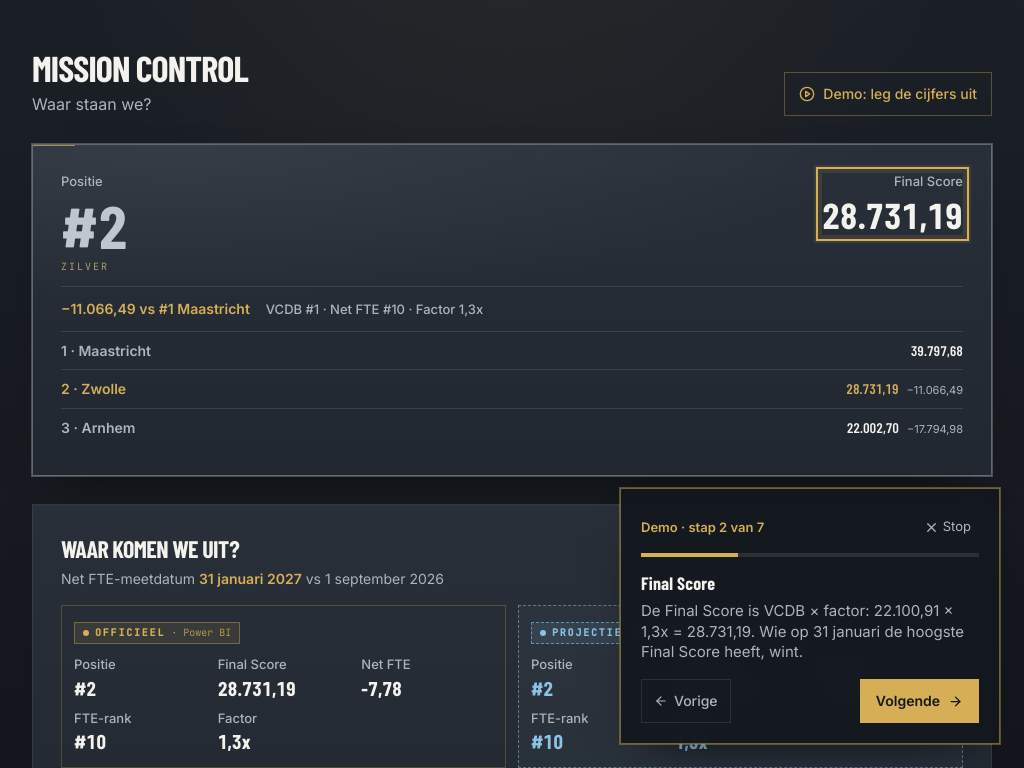
Test: Mission Control demo › walks past every block, one at a time, and ends cleanly
Earlier steps of the test are not shown.
Click the button "Volgende": (919, 701) 860,679 -> 979,723
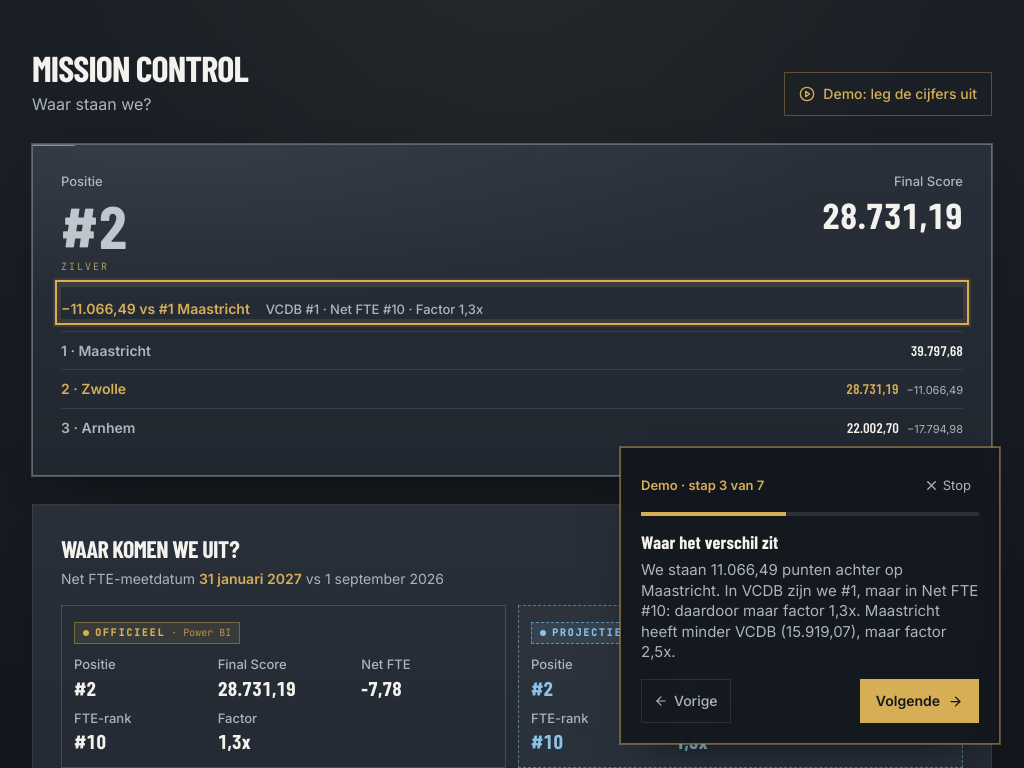
Click the button "Volgende": (919, 701) 860,679 -> 979,723
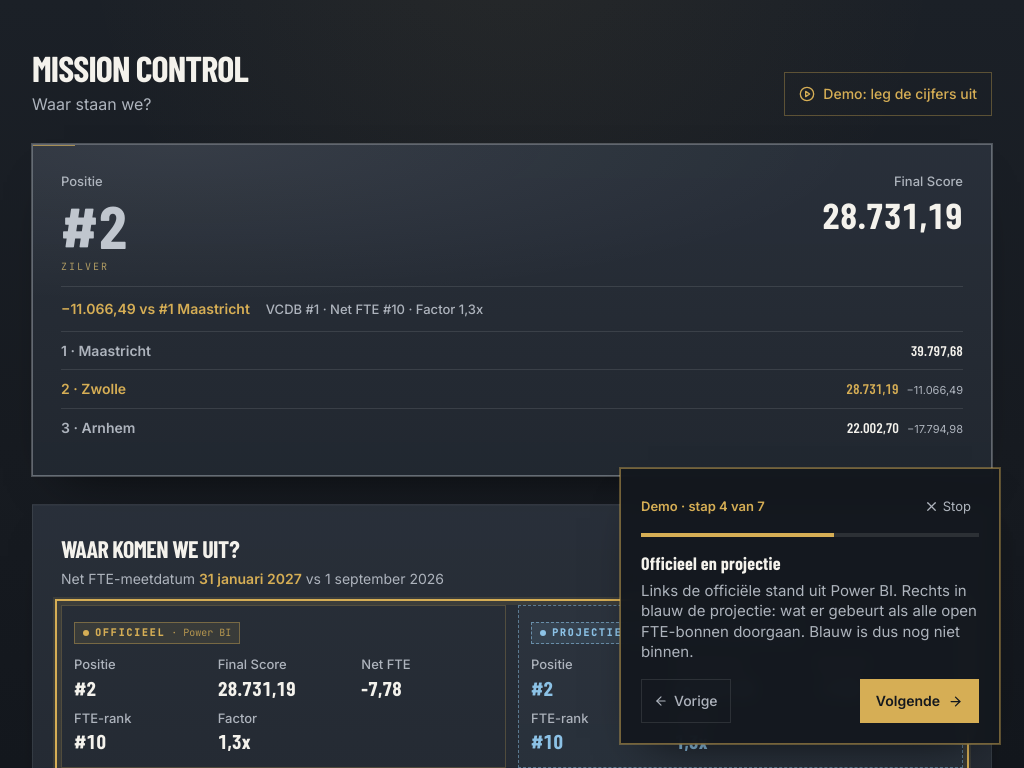
Click the button "Volgende": (919, 701) 860,679 -> 979,723
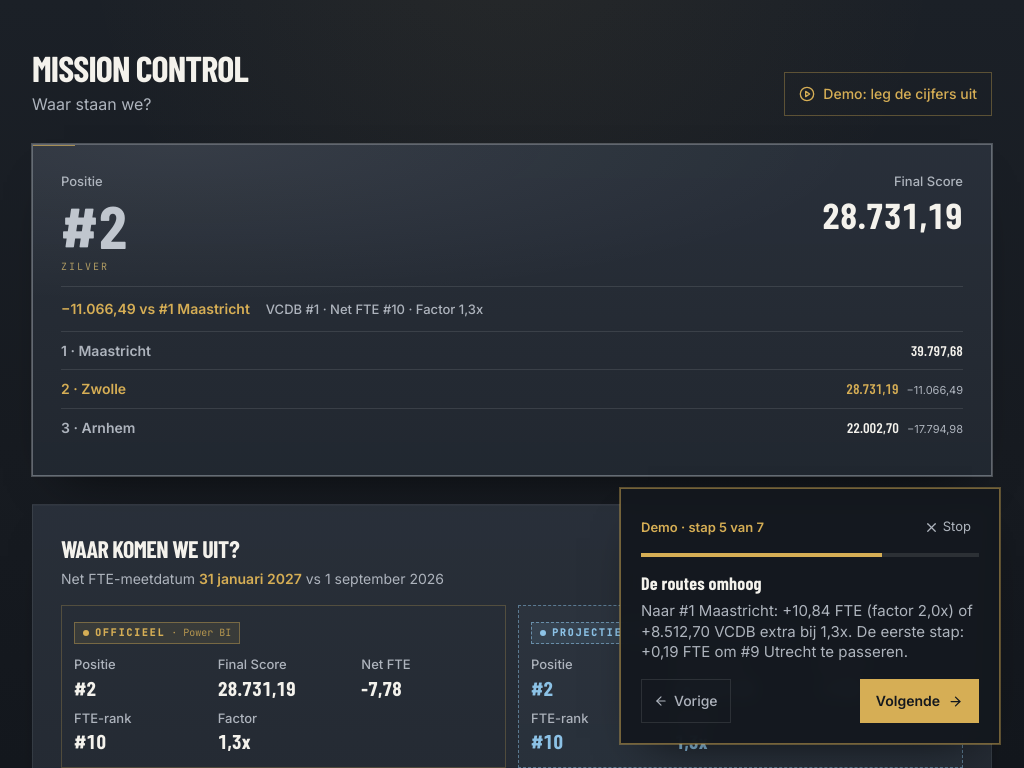
Click the button "Volgende": (919, 701) 860,679 -> 979,723
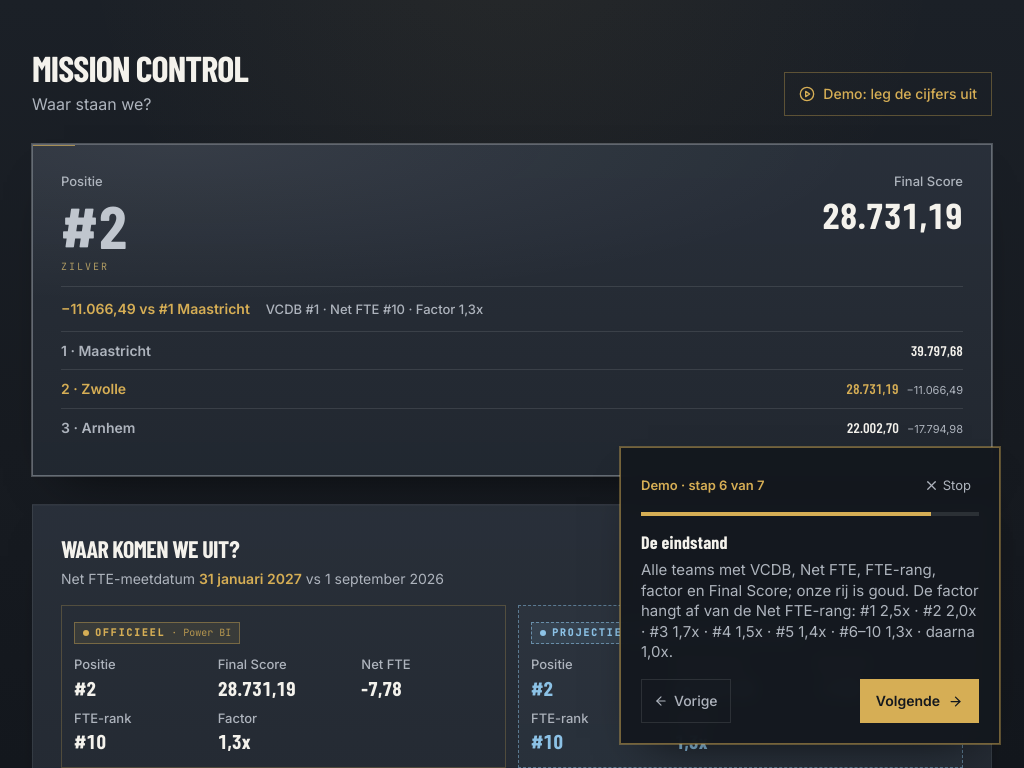
Click the button "Volgende": (919, 701) 860,679 -> 979,723
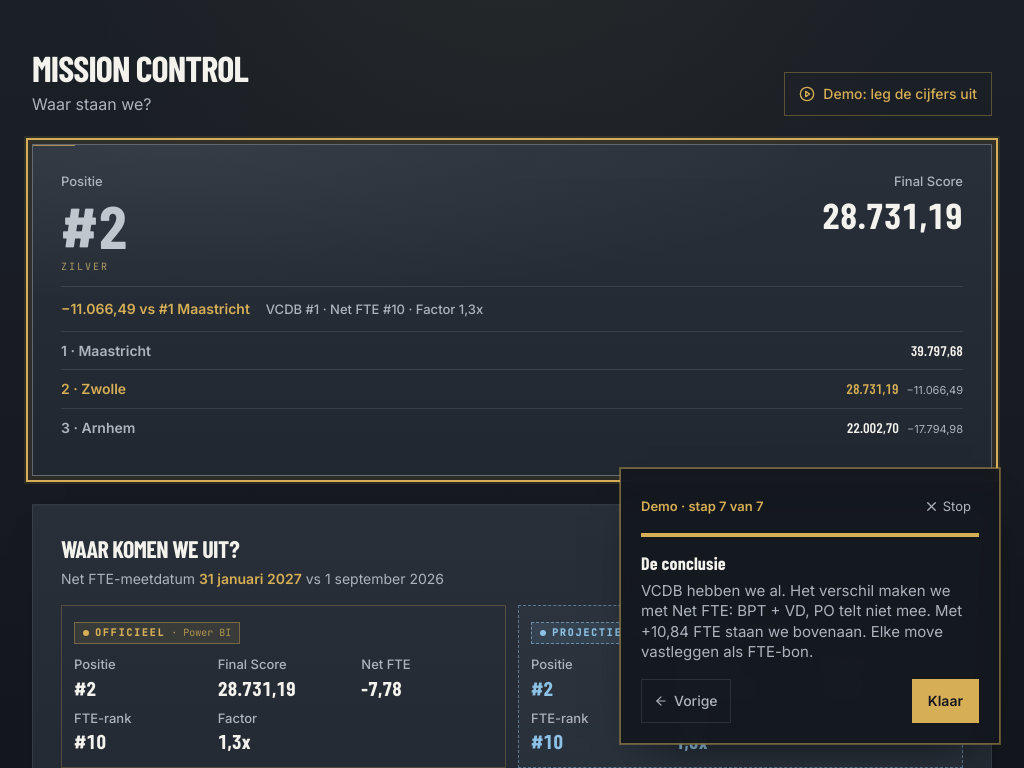
Expected: the heading "De conclusie" is shown, 641,552 -> 726,574
Click the button "Klaar": (945, 701) 912,679 -> 979,723
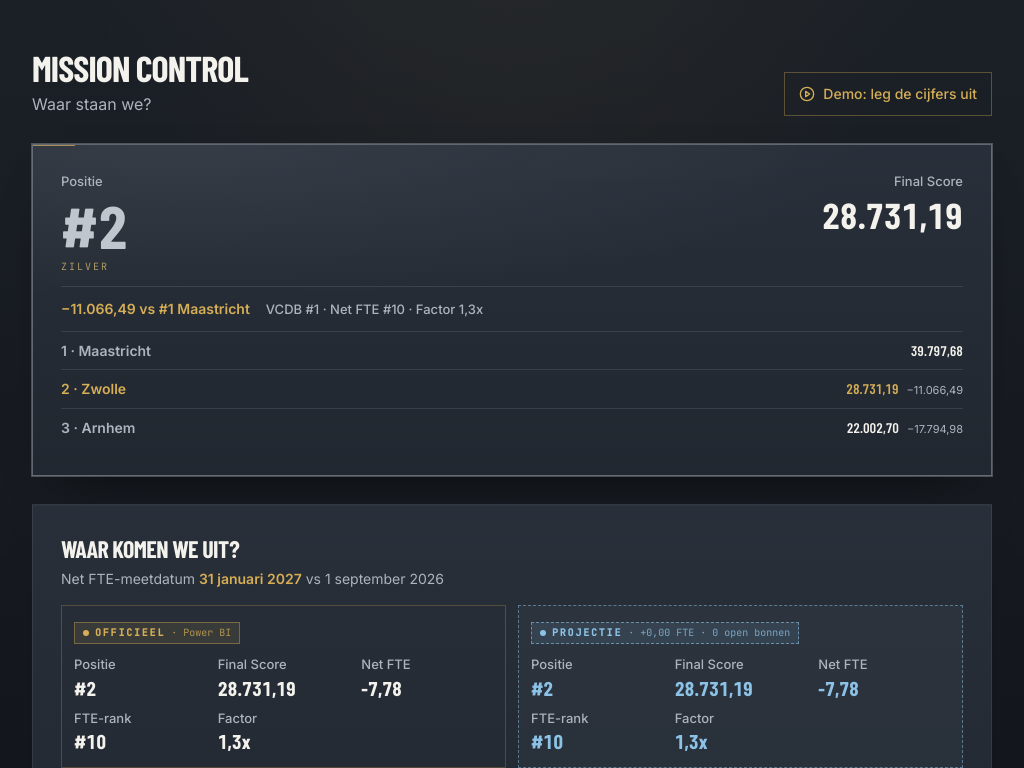
Expected: the dialog with test id "demo-coach" is gone
